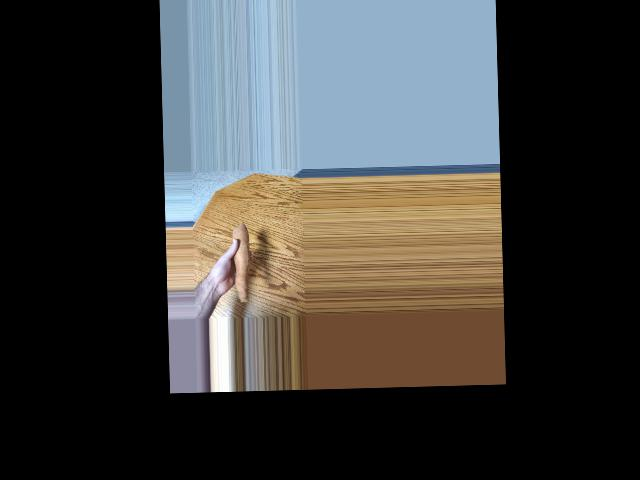sweet_potato: (229, 226, 253, 302)
